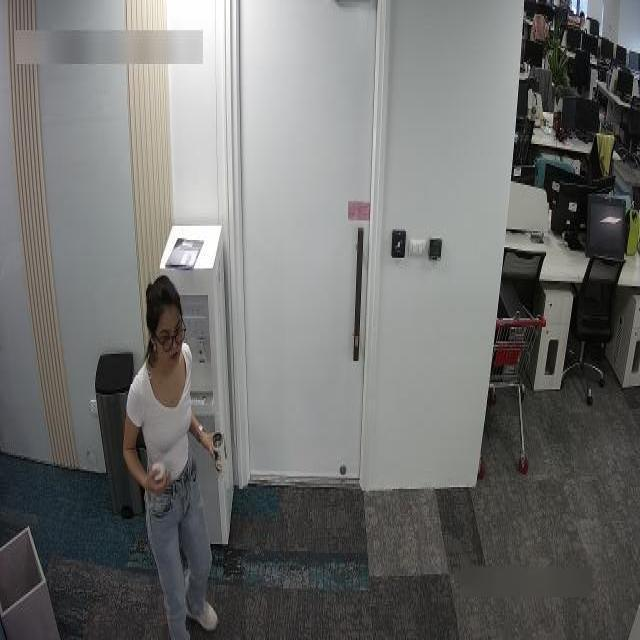bare_hand: (138, 459, 176, 503), (189, 414, 226, 453)
